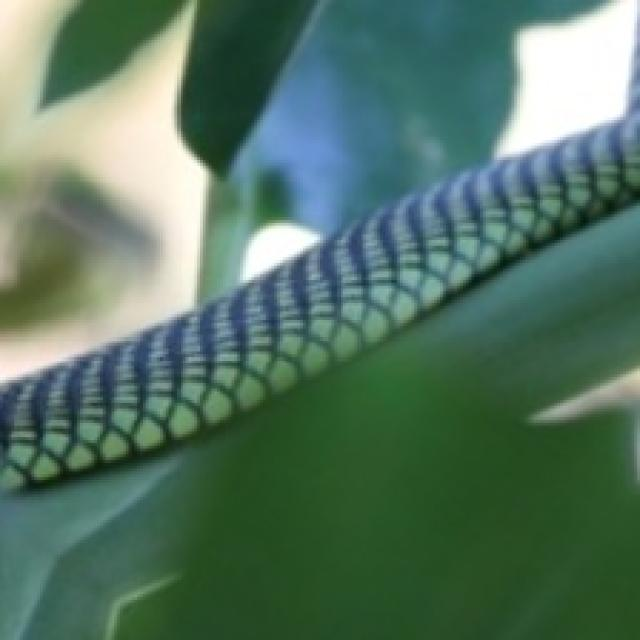paradise tree snake: (0, 31, 637, 486)
